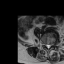CCS_normal: (47, 41, 49, 51)
LFS_normal: (51, 41, 53, 47)
LLS_normal: (49, 42, 51, 49)
RFS_stenosis: (43, 41, 45, 47)
RLS_normal: (45, 41, 47, 48)
